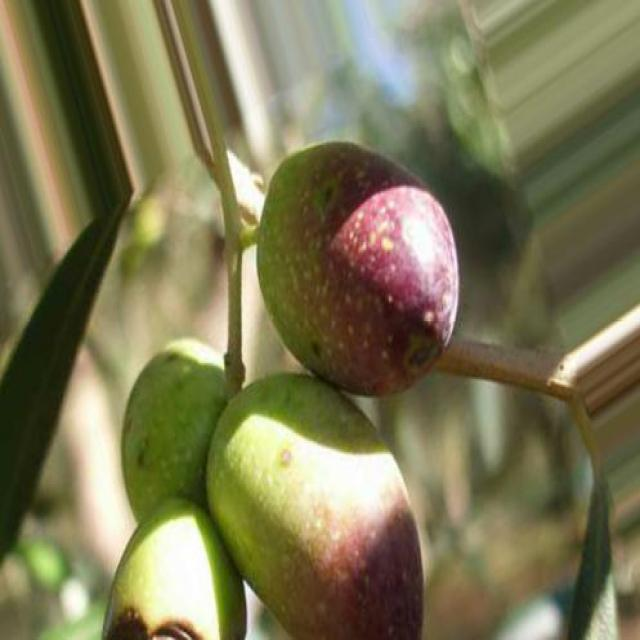Healthy: (206, 373, 422, 638)
Olive Fruit Fly: (259, 142, 460, 395), (102, 498, 243, 638)
